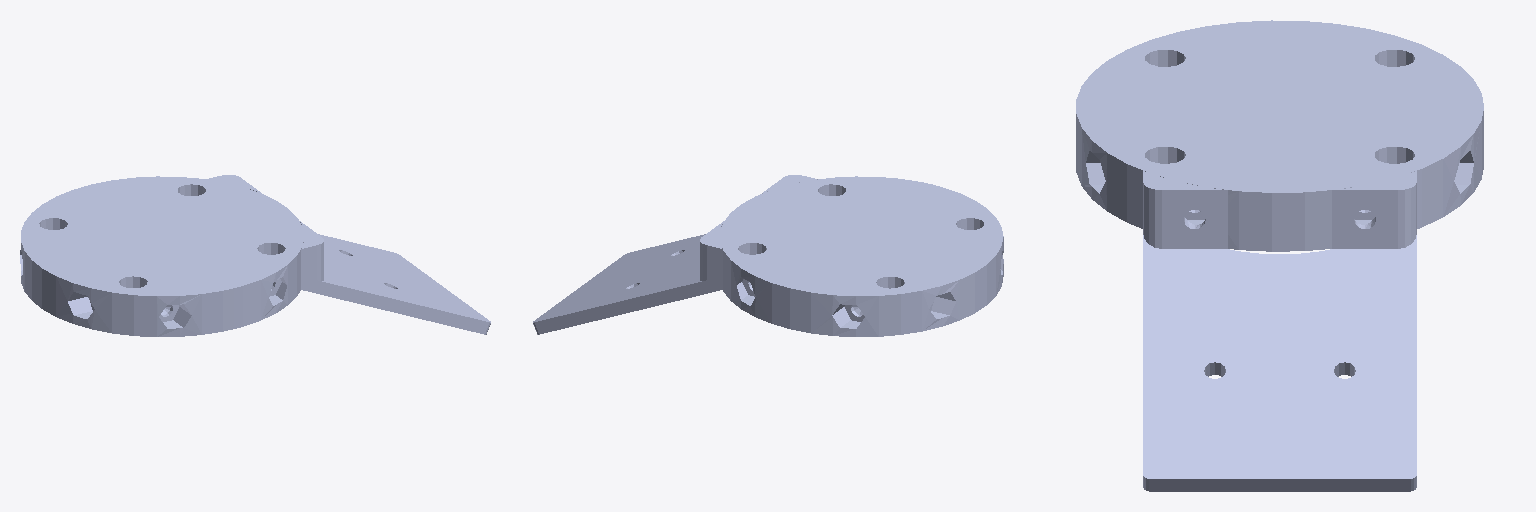
robot.urdf — d405_link:
<?xml version="1.0" encoding="utf-8"?>
<!-- This URDF was automatically created by SolidWorks to URDF Exporter! Originally created by [author] ([email redacted]) 
     Commit Version: 1.6.0-4-g7f85cfe  Build Version: 1.6.7995.38578
     For more information, please see http://wiki.ros.org/sw_urdf_exporter -->
<robot
  name="d405_link">
  <link
    name="base_link">
    <inertial>
      <origin
        xyz="0.033794 0.03171 0.050026"
        rpy="0 0 0" />
      <mass
        value="0.035381" />
      <inertia
        ixx="8.5948E-06"
        ixy="6.3264E-07"
        ixz="-4.704E-13"
        iyy="1.6063E-05"
        iyz="-3.6616E-13"
        izz="8.6805E-06" />
    </inertial>
    <visual>
      <origin
        xyz="0 0 0"
        rpy="0 0 0" />
      <geometry>
        <mesh
          filename="package://d405_link/meshes/base_link.STL" />
      </geometry>
      <material
        name="">
        <color
          rgba="0.79216 0.81961 0.93333 1" />
      </material>
    </visual>
    <collision>
      <origin
        xyz="0 0 0"
        rpy="0 0 0" />
      <geometry>
        <mesh
          filename="package://d405_link/meshes/base_link.STL" />
      </geometry>
    </collision>
  </link>
</robot>

--- Facts derived from the render (not from the file) ---
Views: 3 orthographic renders of the robot side by side, from view 1: azimuth 30°, elevation 25°; view 2: azimuth 150°, elevation 25°; view 3: azimuth 270°, elevation 25°.
Model d405_link with 1 links and 0 joints (none), rooted at base_link, posed all joints at 0.
Visible links, largest first — view 1: base_link; view 2: base_link; view 3: base_link.
Boxes of the visible links, left/top/right/bottom form: base_link: left=20, top=175, right=490, bottom=336; base_link: left=533, top=175, right=1003, bottom=336; base_link: left=1076, top=20, right=1483, bottom=491.
Bounding box of the posed robot: 0.1039 × 0.063 × 0.0323 m (x, y, z).
1 mesh visuals loaded from 1 distinct referenced files (1 binary STL).